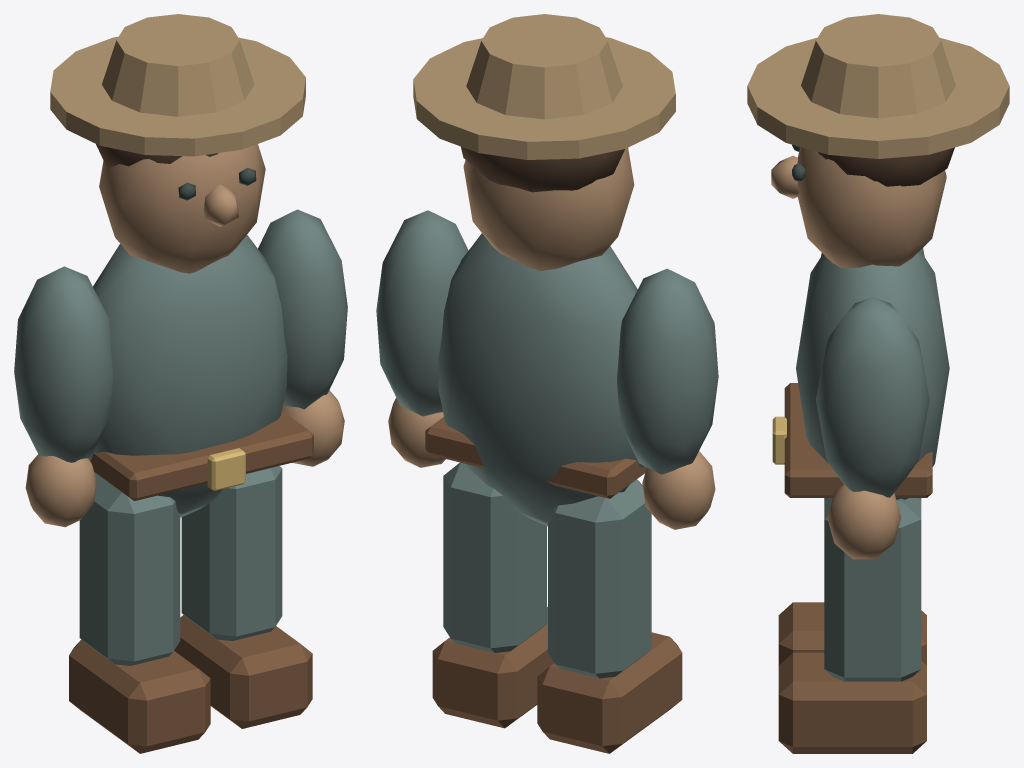
File: citizen_0.glb
The picture shows the model from 3 angles, left to right: view 1: azimuth 30°, elevation 25°; view 2: azimuth 150°, elevation 25°; view 3: azimuth 270°, elevation 25°; orthographic projection. The views are drawn at different scales.
Parts seen in each view (by area): view 1: Body, LegL, LegR, ArmL, ArmR; view 2: Body, LegL, LegR, ArmL, ArmR; view 3: Body, LegR, ArmR, LegL.
Boxes of the visible parts, bbox=[...] form: Body: bbox=[50, 14, 313, 517]; LegL: bbox=[69, 472, 210, 753]; LegR: bbox=[174, 466, 312, 728]; ArmL: bbox=[14, 266, 113, 527]; ArmR: bbox=[258, 209, 347, 466]; Body: bbox=[413, 14, 675, 526]; LegL: bbox=[537, 479, 682, 753]; LegR: bbox=[432, 462, 554, 728]; ArmL: bbox=[617, 268, 718, 529]; ArmR: bbox=[376, 210, 468, 467]; Body: bbox=[747, 14, 1009, 499]; LegR: bbox=[778, 498, 926, 753]; ArmR: bbox=[816, 297, 929, 559]; LegL: bbox=[778, 498, 926, 665].
Bounding box in the file's own units: 0.6512 × 1.31 × 0.46.
